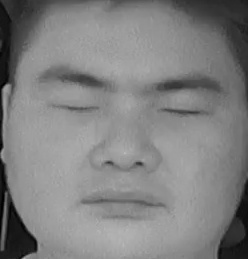blink: (47, 88, 104, 121), (158, 94, 206, 127)
mouth: (75, 179, 168, 230)
